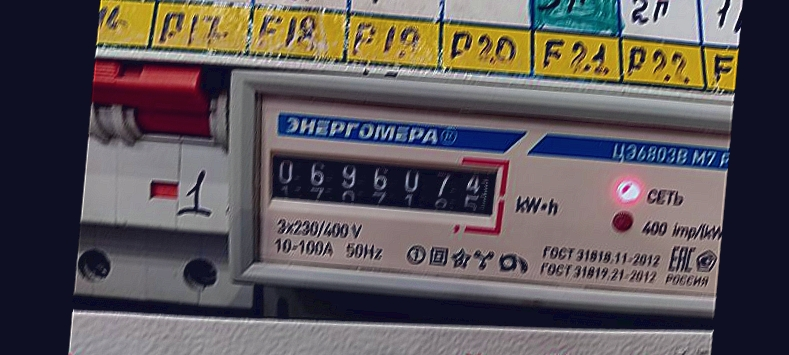0: (276, 156, 298, 182), (403, 164, 422, 192)
4: (465, 169, 483, 192)
5: (463, 192, 481, 213)
6: (371, 161, 391, 190), (308, 158, 329, 184)
7: (435, 168, 453, 196)
9: (340, 160, 359, 187)
screen: (255, 134, 515, 237)
